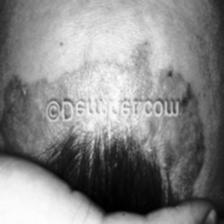Non-Cancerous Skin Condition: (1, 57, 221, 153)
